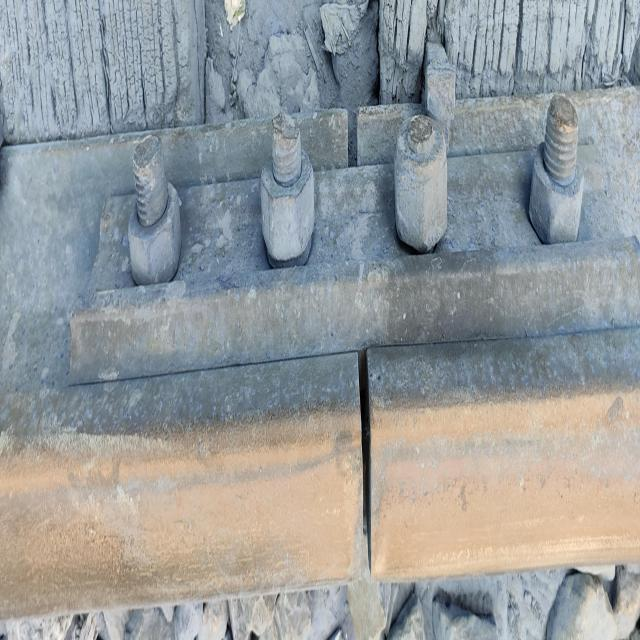Good Joint: (66, 97, 640, 400)
